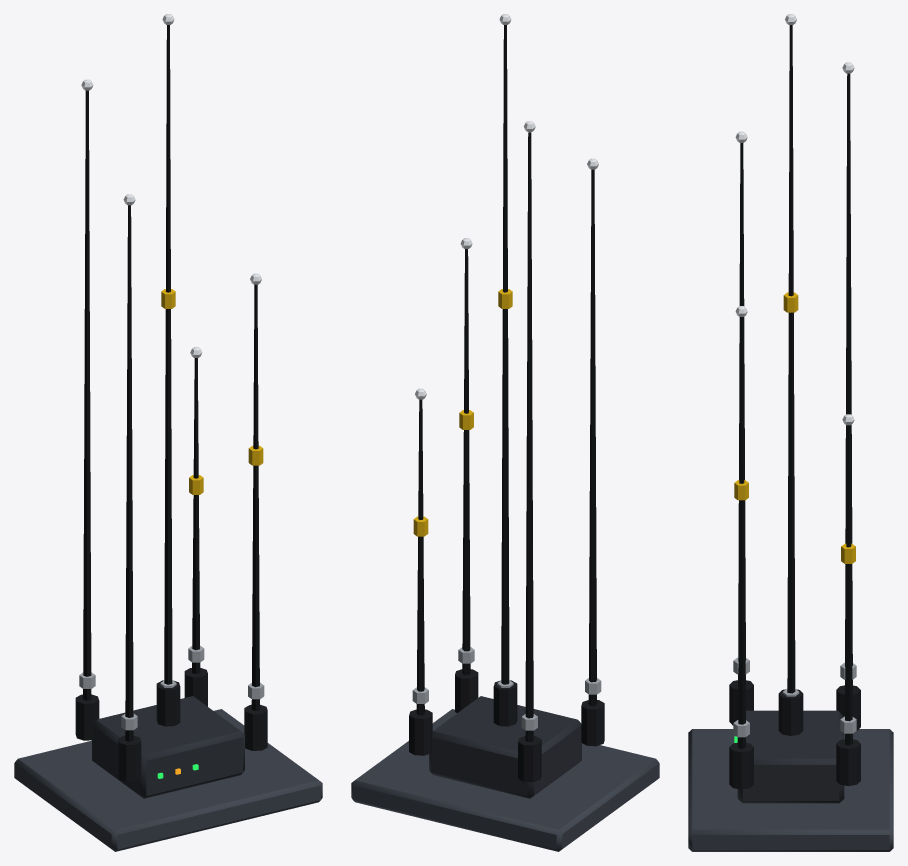
File: antenna_whip_antenna_cluster.glb
The picture shows the model from 3 angles, left to right: view 1: azimuth 30°, elevation 25°; view 2: azimuth 150°, elevation 25°; view 3: azimuth 270°, elevation 25°; orthographic projection.
Parts seen in each view (by area): view 1: antenna_whip_antenna_cluster; view 2: antenna_whip_antenna_cluster; view 3: antenna_whip_antenna_cluster.
Boxes of the visible parts, bbox=[...] form: antenna_whip_antenna_cluster: bbox=[14, 14, 322, 851]; antenna_whip_antenna_cluster: bbox=[351, 14, 659, 851]; antenna_whip_antenna_cluster: bbox=[688, 14, 893, 851].
Size of the model in its own units: 0.6 by 2.12 by 0.5.
